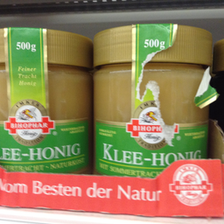honey: (94, 24, 215, 181), (1, 27, 95, 179)
